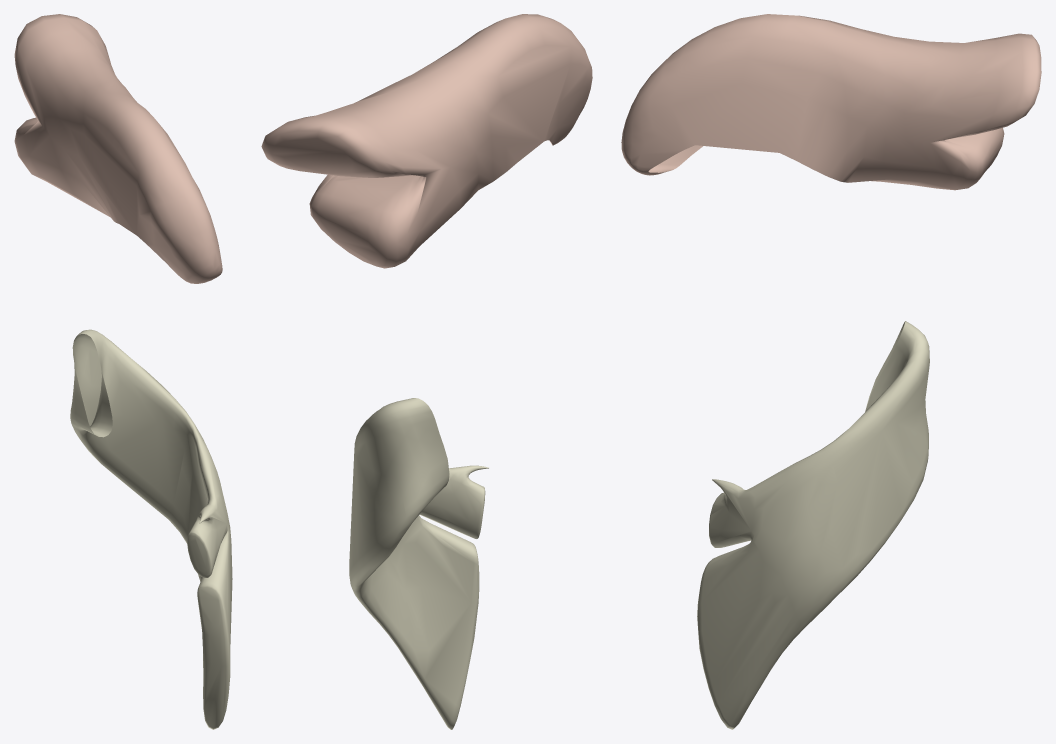
Rendered from Mane_15.fbx.
3 renders of one model, left to right at view 1: azimuth 30°, elevation 25°; view 2: azimuth 150°, elevation 25°; view 3: azimuth 270°, elevation 25°, orthographic. The views are drawn at different scales.
Parts seen in each view (by area): view 1: Mane_15; view 2: Mane_15; view 3: Mane_15.
Part boxes in pixels (x1,y1,x2,y2): Mane_15: (14,14,232,729); Mane_15: (261,14,592,729); Mane_15: (621,14,1041,729).
Size of the model in its own units: 67.62 by 308 by 173.
